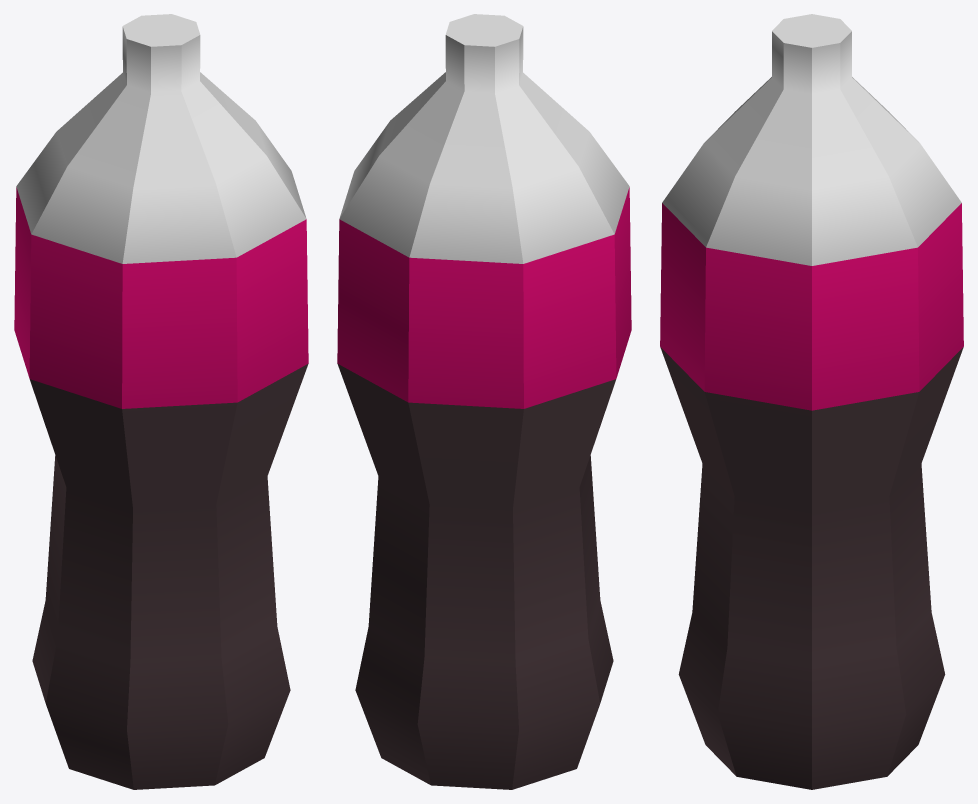
Rendered from coke_2.fbx.
3 renders of one model, left to right at view 1: azimuth 30°, elevation 25°; view 2: azimuth 150°, elevation 25°; view 3: azimuth 270°, elevation 25°, orthographic.
Visible parts, largest first — view 1: pCylinder1; view 2: pCylinder1; view 3: pCylinder1.
Boxes of the visible parts, <box> form: pCylinder1: <box>14,14,308,789</box>; pCylinder1: <box>337,14,631,789</box>; pCylinder1: <box>660,14,963,789</box>.
Bounding box in the file's own units: 5.45 × 14.13 × 5.45.
